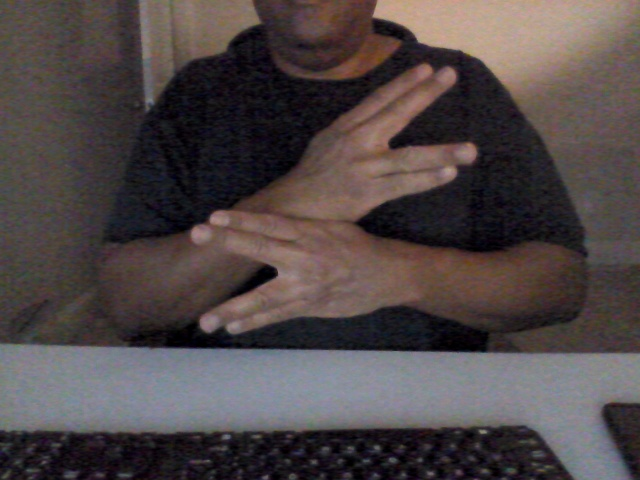world: (187, 61, 486, 334)
